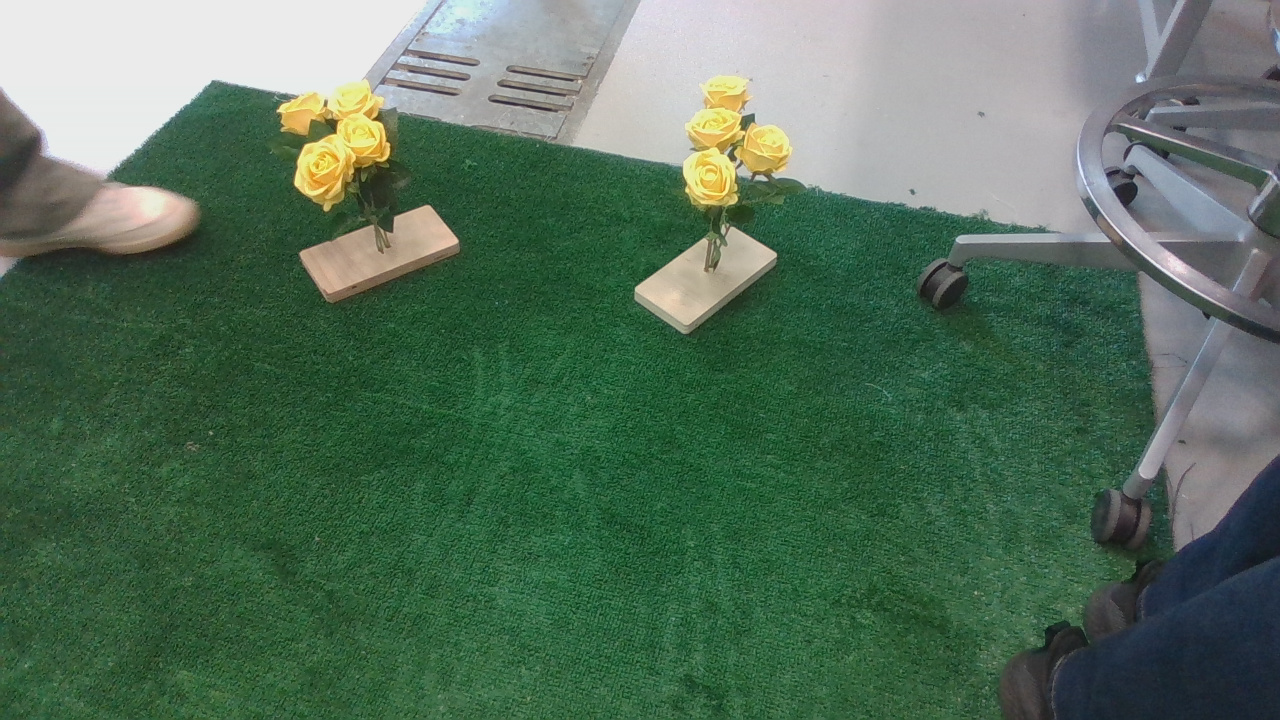rose: (277, 79, 422, 255), (667, 76, 807, 251)
